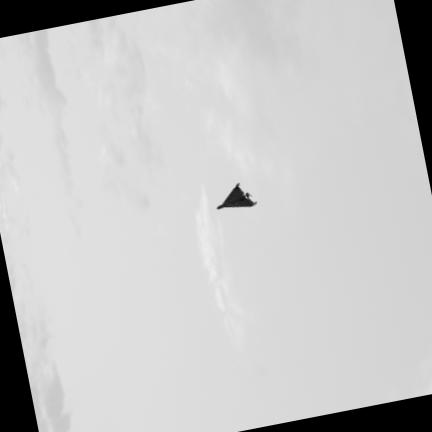Shahed: (217, 184, 256, 208)
